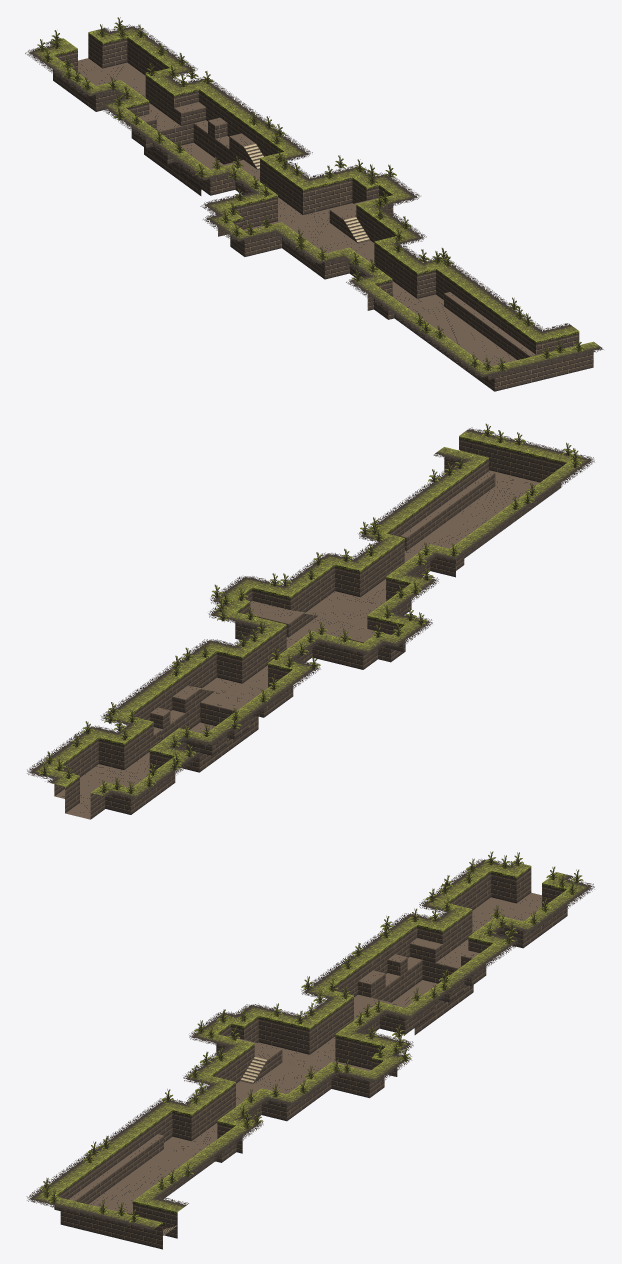
Rendered from Raum3.fbx.
The picture shows the model from 3 angles, top to bottom: view 1: azimuth 30°, elevation 25°; view 2: azimuth 150°, elevation 25°; view 3: azimuth 330°, elevation 25°; orthographic projection. The views are drawn at different scales.
Visible parts, largest first — view 1: Raum3; view 2: Raum3; view 3: Raum3.
Boxes of the visible parts, x1=… form: Raum3: x1=25, y1=17, x2=603, y2=391; Raum3: x1=27, y1=423, x2=594, y2=819; Raum3: x1=26, y1=851, x2=594, y2=1249.
Bounding box in the file's own units: 32 × 9 × 128.
